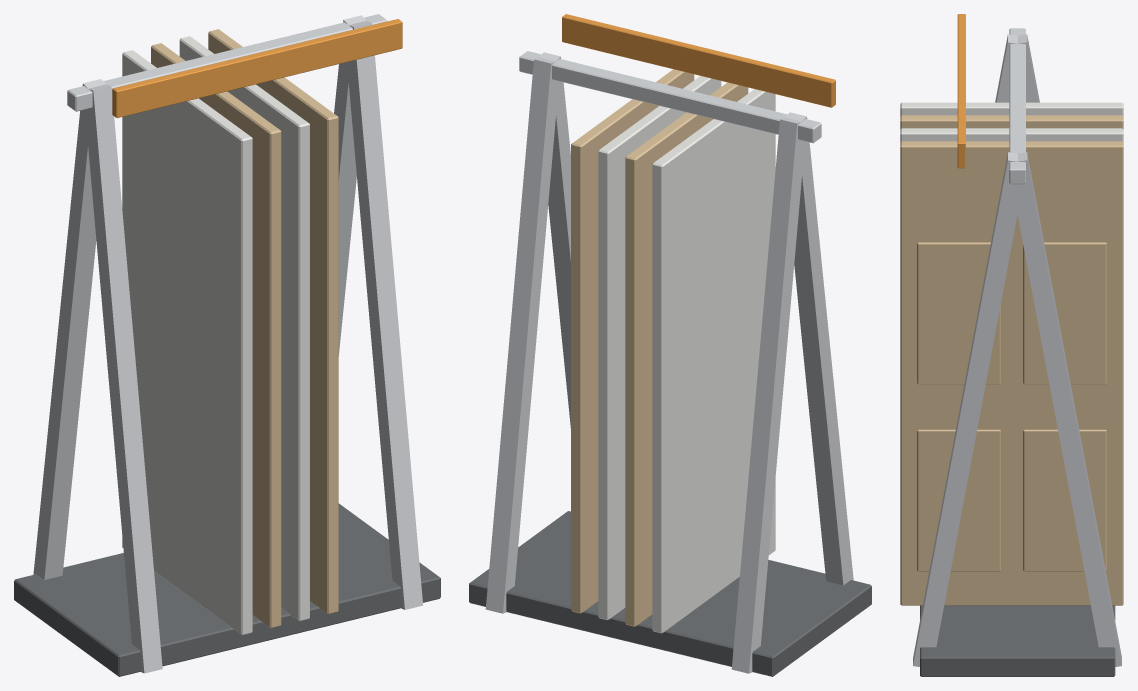
File: internal-door-display-frame.glb
3 renders of one model, left to right at view 1: azimuth 30°, elevation 25°; view 2: azimuth 150°, elevation 25°; view 3: azimuth 270°, elevation 25°, orthographic. The views are drawn at different scales.
Parts seen in each view (by area): view 1: door-display-frame; view 2: door-display-frame; view 3: door-display-frame.
Boxes of the visible parts, x1=… form: door-display-frame: x1=14, y1=14, x2=440, y2=676; door-display-frame: x1=469, y1=14, x2=871, y2=676; door-display-frame: x1=900, y1=14, x2=1123, y2=676.
Size of the model in its own units: 1.24 by 2.09 by 0.7999.
